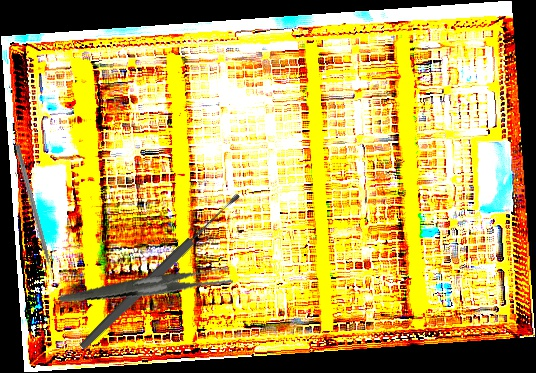Dressing Forceps: (58, 238, 236, 331)
Hook Surgical: (13, 144, 56, 282)
Surgical Spoon: (77, 190, 244, 353)
